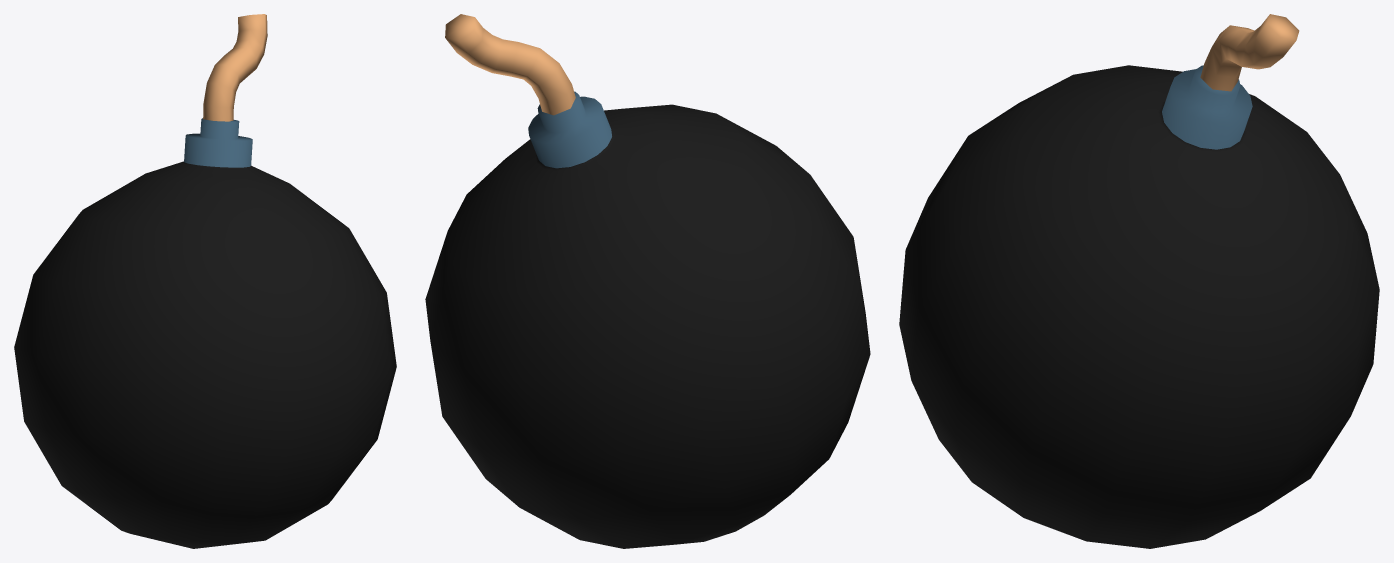
Rendered from Bomb.fbx.
The picture shows the model from 3 angles, left to right: view 1: azimuth 30°, elevation 25°; view 2: azimuth 150°, elevation 25°; view 3: azimuth 270°, elevation 25°; orthographic projection. The views are drawn at different scales.
Parts seen in each view (by area): view 1: Sphere.003; view 2: Sphere.003; view 3: Sphere.003.
Boxes of the visible parts, x1,y1,x2,y2 form: Sphere.003: (14, 14, 396, 548); Sphere.003: (425, 14, 870, 548); Sphere.003: (899, 14, 1379, 548).
Size of the model in its own units: 197 by 260 by 198.
